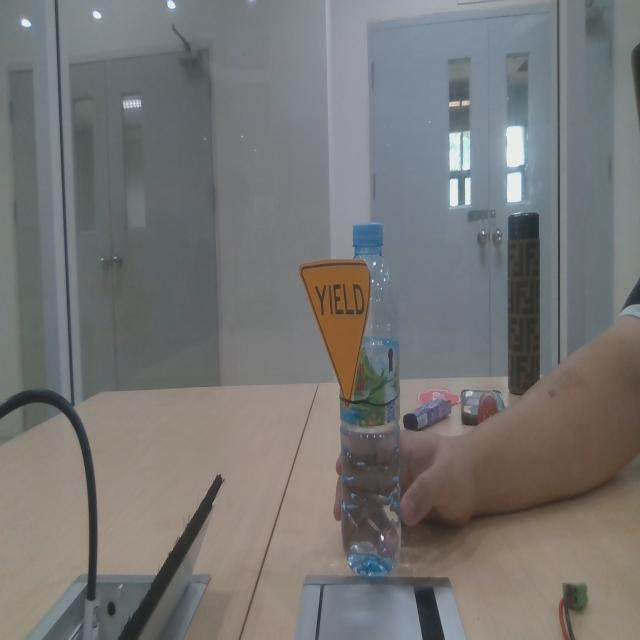Yield: (298, 252, 373, 408)
